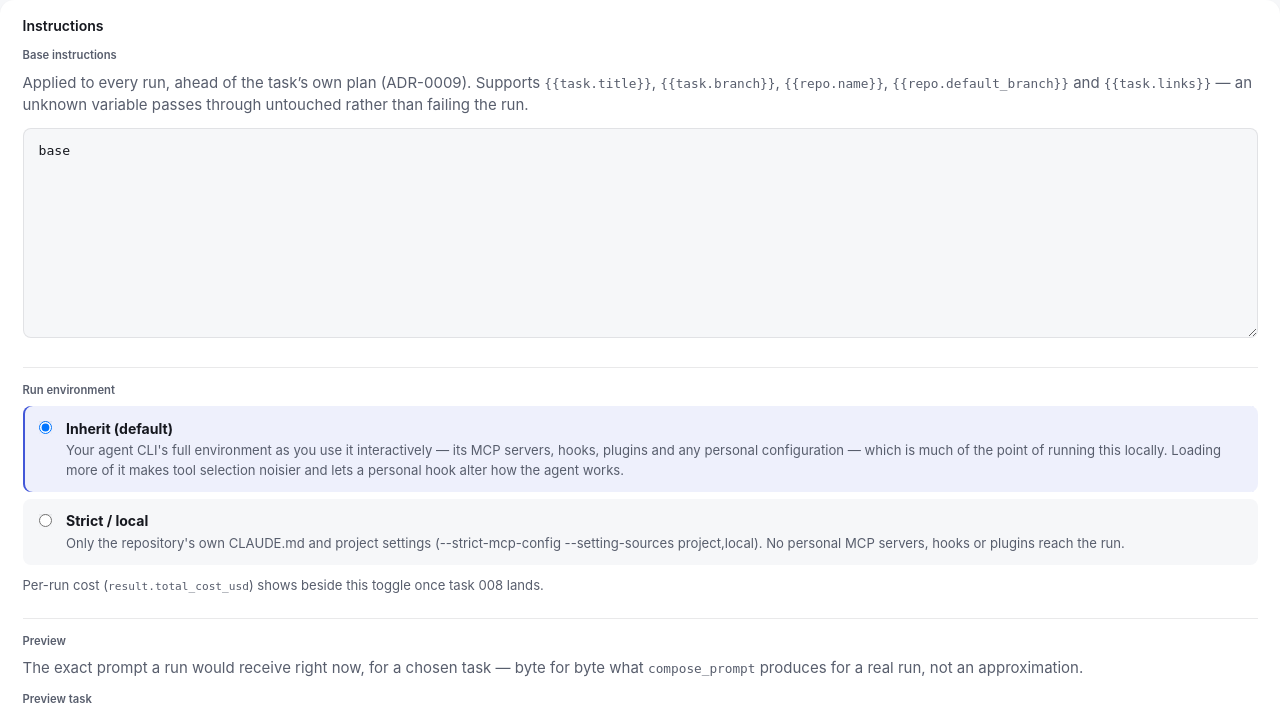
Test: InstructionsSection › reverts the run-environment selection when set_run_environment rejects
Click the radio button labelled "Strict / local". click: (45, 521)
box: [39, 514, 52, 527]
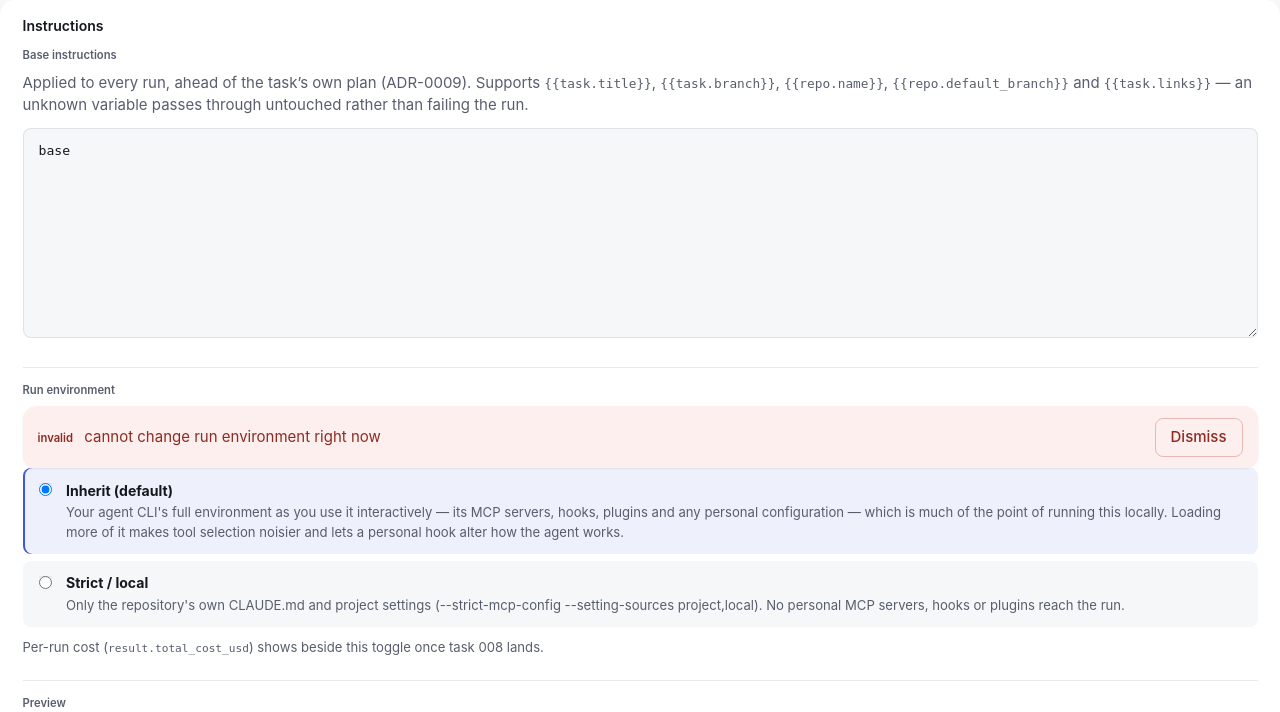
Expected: the radio button labelled "Inherit (default)" is checked, [39, 483, 52, 496]
Expected: the text "cannot change run environment right now" is shown, [84, 427, 381, 446]
